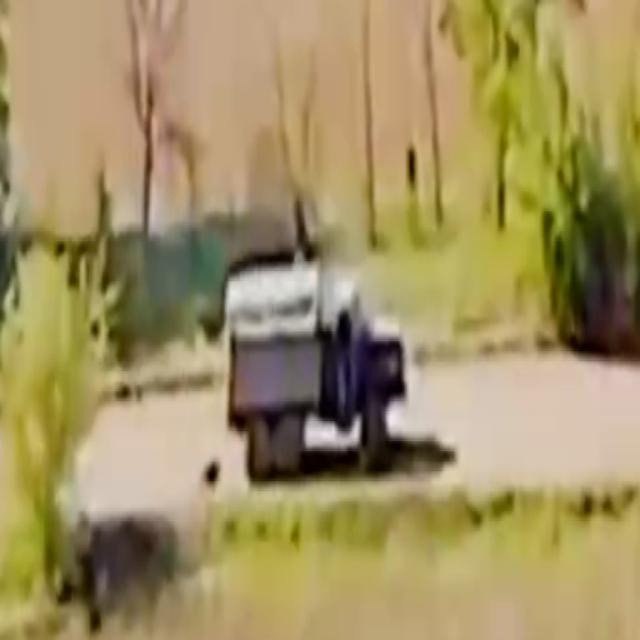TRUCK: (215, 266, 411, 476)
